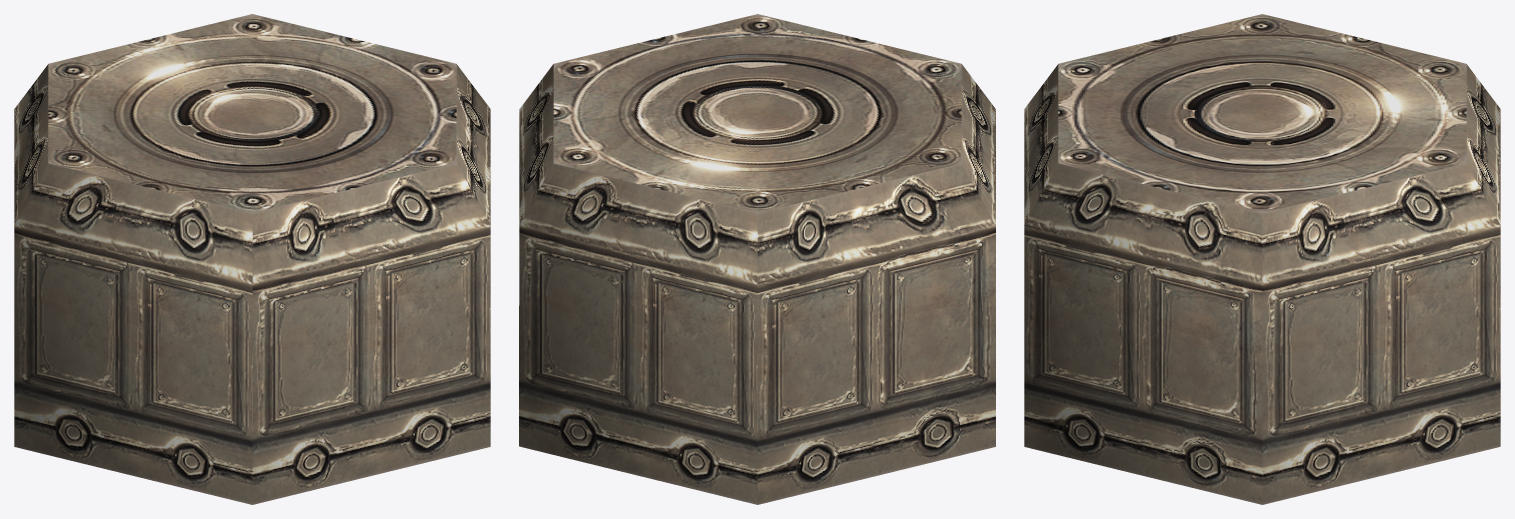
File: pipe_04_low.FBX
The picture shows the model from 3 angles, left to right: view 1: azimuth 30°, elevation 25°; view 2: azimuth 150°, elevation 25°; view 3: azimuth 270°, elevation 25°; orthographic projection.
Visible parts, largest first — view 1: Object271; view 2: Object271; view 3: Object271.
Boxes of the visible parts, x1,y1,x2,y2 form: Object271: [14, 14, 490, 504]; Object271: [519, 14, 995, 504]; Object271: [1024, 14, 1500, 504].
Size of the model in its own units: 233 by 129 by 202.
1 material, 1 textured.
